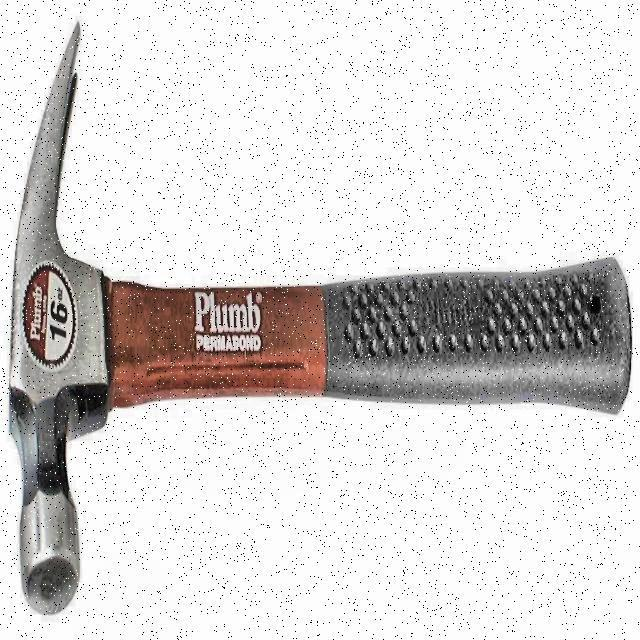hammer: (6, 20, 634, 618)
